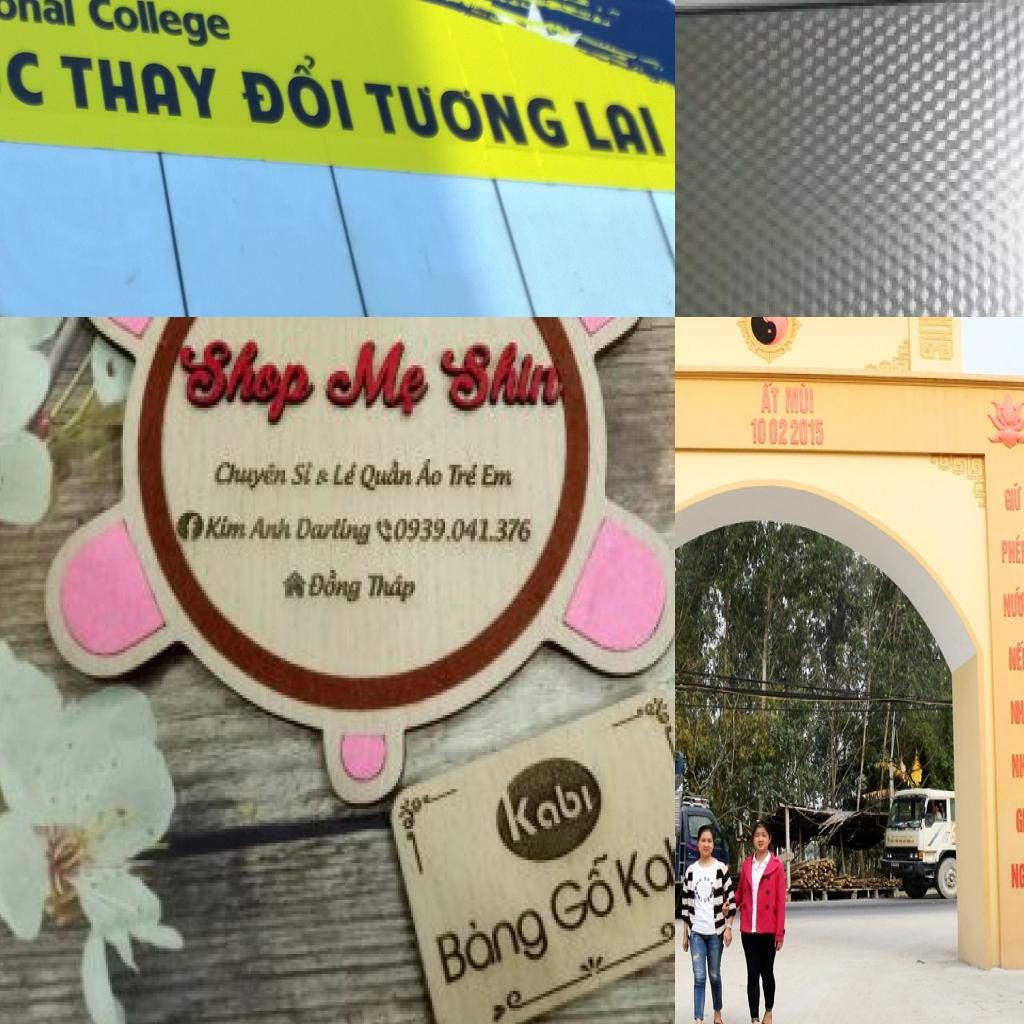text: (360, 78, 573, 152), (162, 336, 322, 430), (432, 889, 556, 1005), (432, 337, 569, 416), (58, 54, 218, 121), (319, 337, 434, 425), (237, 50, 355, 134), (85, 0, 234, 50), (541, 848, 620, 942), (498, 780, 599, 852), (613, 820, 675, 914), (392, 516, 534, 544), (0, 23, 44, 108), (210, 459, 292, 493), (294, 516, 374, 550), (356, 456, 418, 499), (304, 567, 368, 607), (362, 573, 419, 607), (783, 380, 820, 418), (246, 516, 296, 544), (204, 513, 251, 542), (413, 456, 445, 490), (479, 462, 516, 490), (445, 462, 481, 490), (998, 531, 1024, 566), (330, 462, 362, 490), (289, 459, 317, 490), (1002, 583, 1024, 619), (1001, 481, 1024, 514), (758, 382, 781, 413), (768, 416, 790, 448), (748, 415, 769, 446), (1007, 640, 1024, 673), (1008, 859, 1024, 894), (1008, 693, 1024, 726), (1008, 747, 1024, 780), (313, 465, 334, 490), (185, 516, 202, 544), (1012, 800, 1024, 834)
